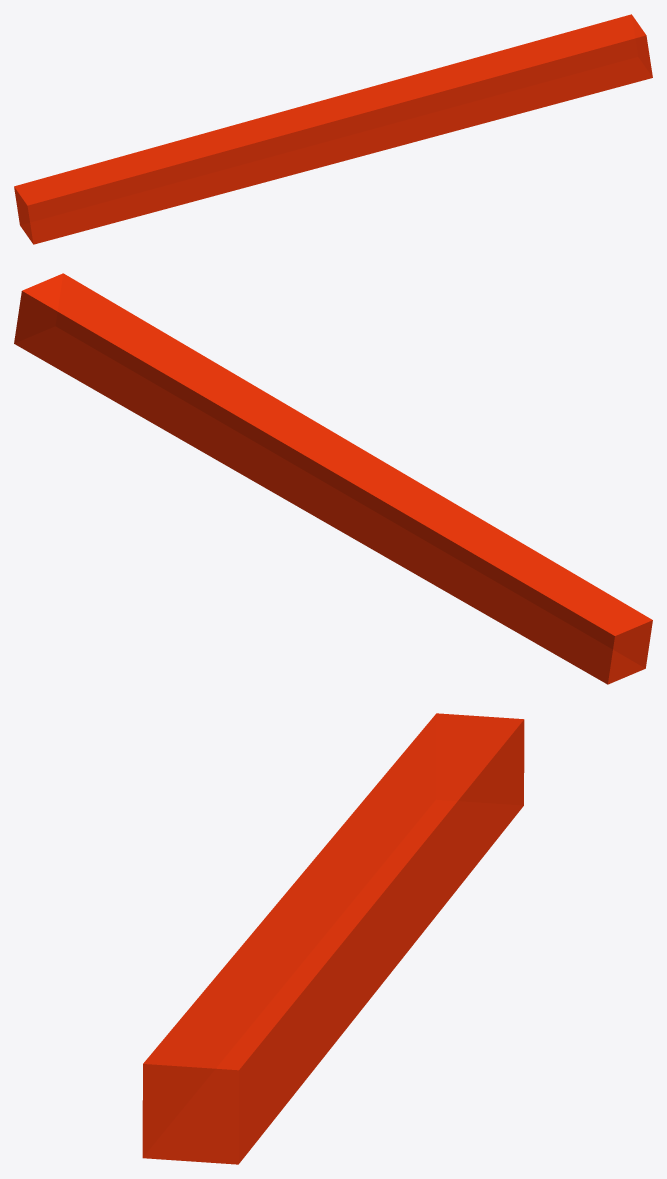
File: Event_420107950_EErechit_38.fbx
3 renders of one model, top to bottom at view 1: azimuth 30°, elevation 25°; view 2: azimuth 150°, elevation 25°; view 3: azimuth 270°, elevation 25°, orthographic. The views are drawn at different scales.
Visible parts, largest first — view 1: Model; view 2: Model; view 3: Model.
Boxes of the visible parts, left/top/right/bottom form: Model: left=14, top=14, right=652, bottom=244; Model: left=14, top=273, right=652, bottom=684; Model: left=142, top=713, right=524, bottom=1164.
Size of the model in its own units: 1.04 by 0.2357 by 0.3075.
